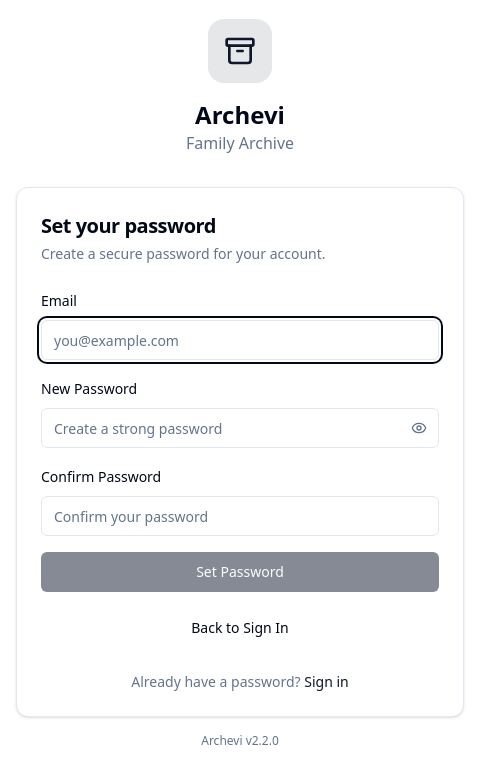
Test: SetPasswordPage › shows password strength indicators
In the password field labelled "New Password": {"x": 240, "y": 428} [41,408,439,448], type "Test1"
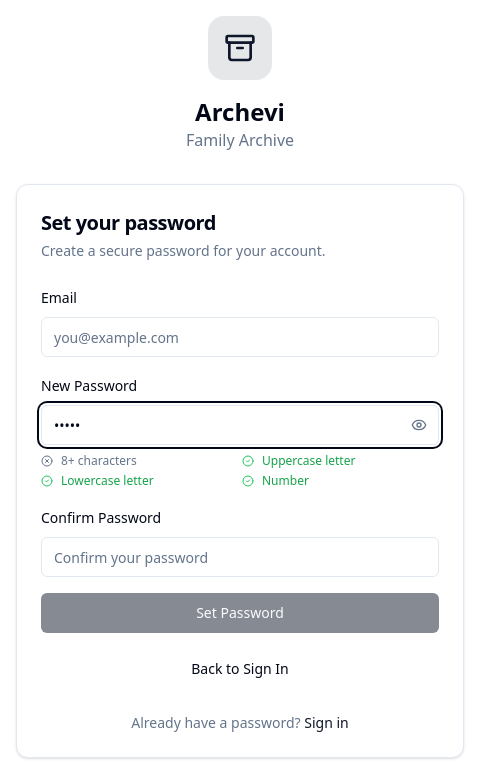
Check: the text "8+ characters" is shown, box [61,453,137,469]
Check: the text "Uppercase letter" is shown, box [262,453,355,469]
Check: the text "Lowercase letter" is shown, box [61,473,154,489]
